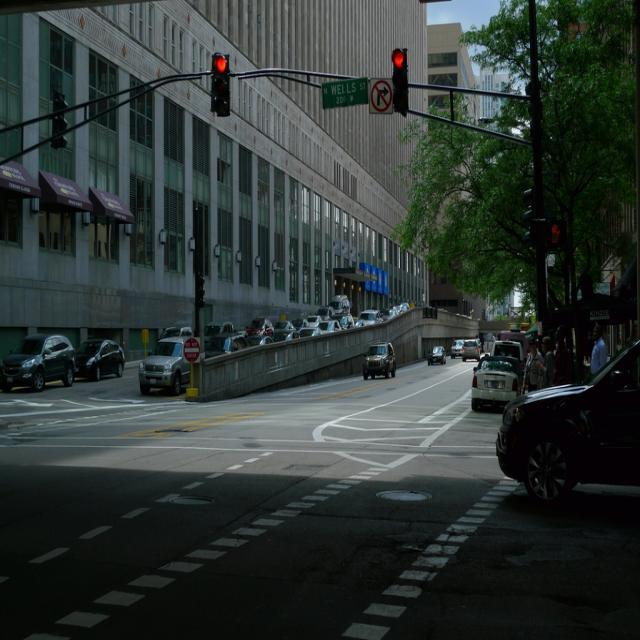road_sign: (371, 77, 394, 113)
traffic light: (392, 48, 410, 111), (211, 56, 230, 113)
